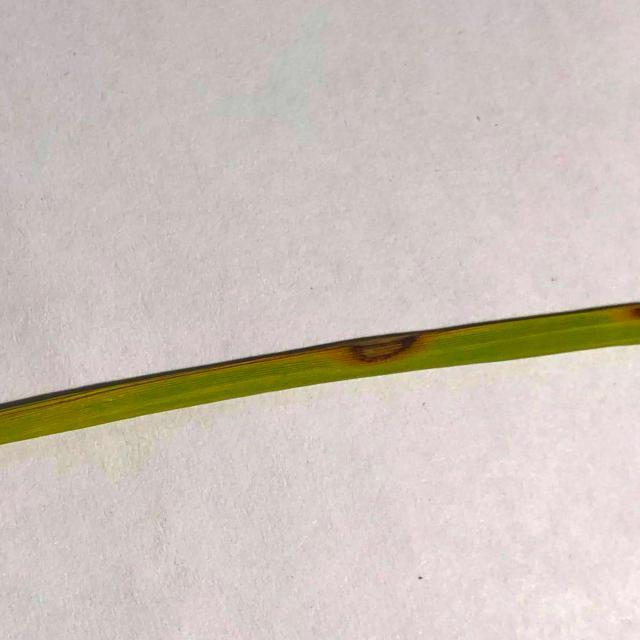Blast: (356, 342, 414, 359)
